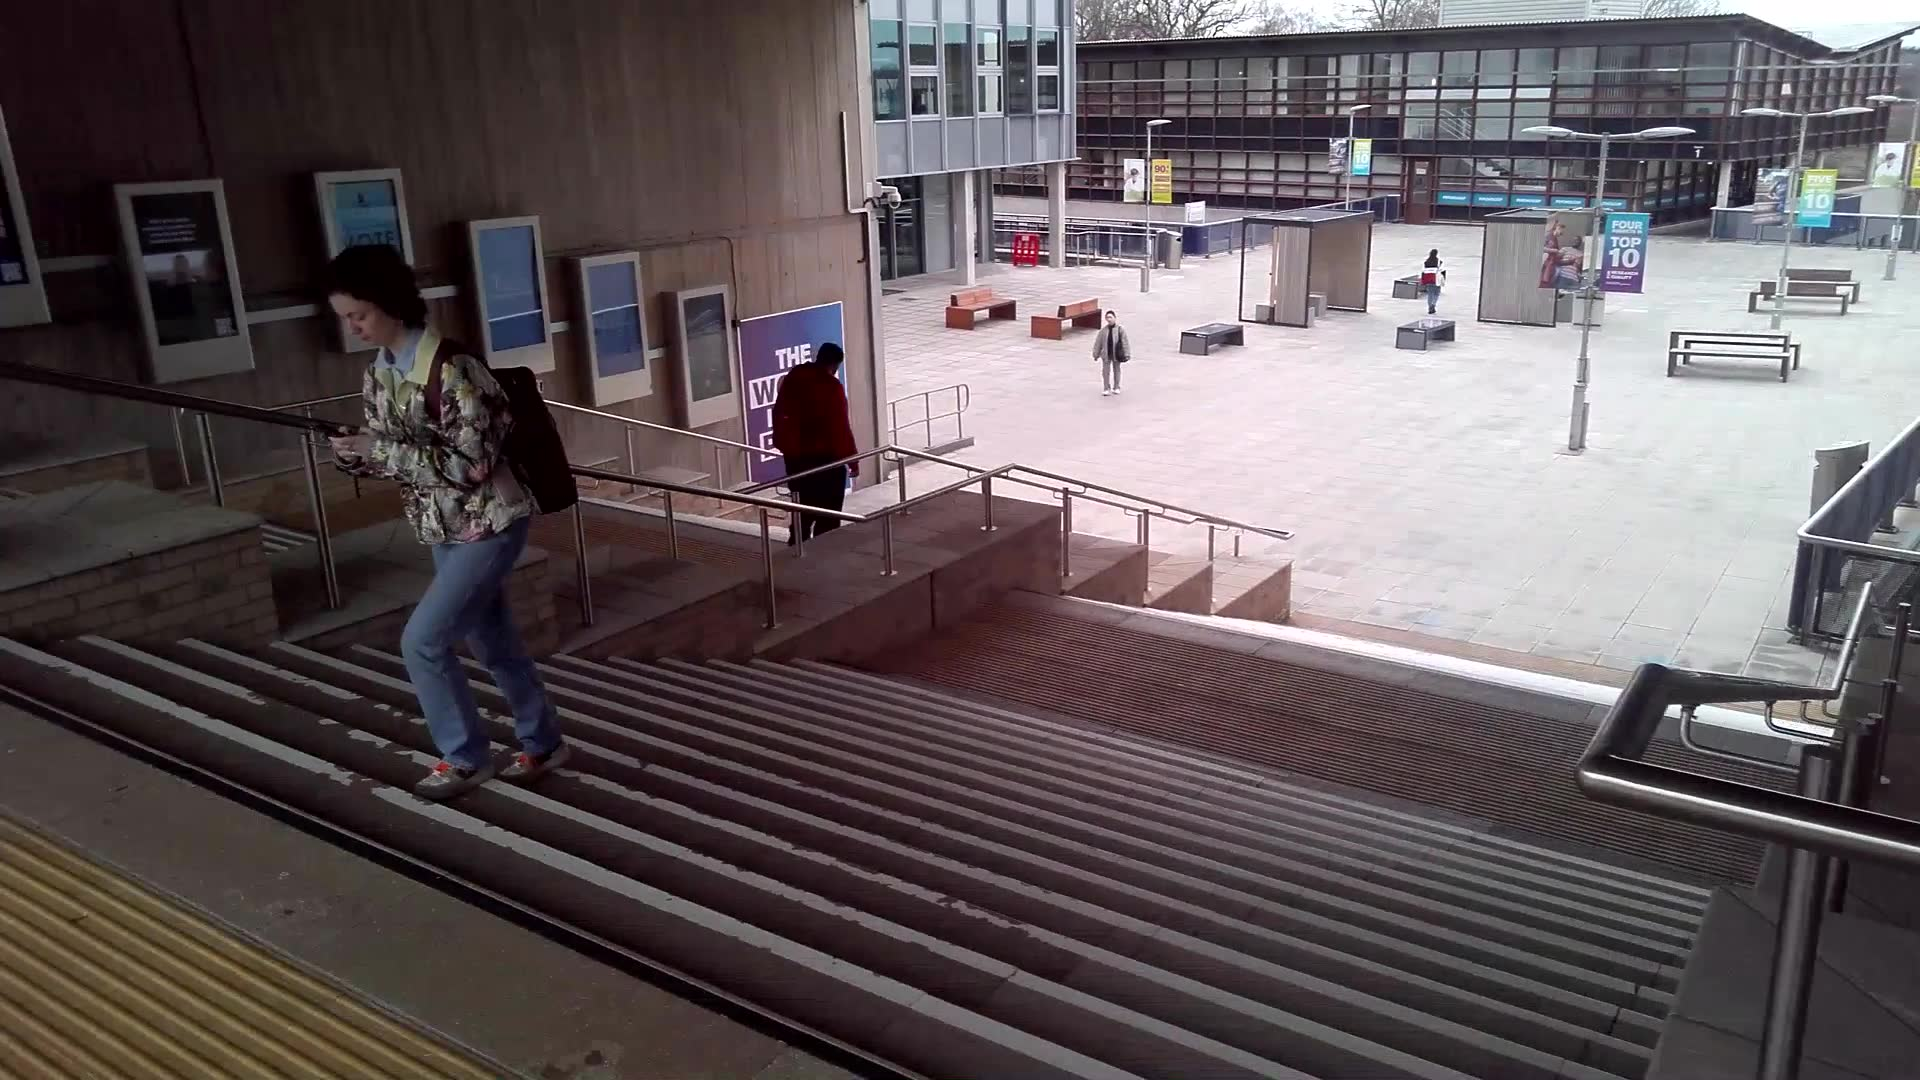Backpack: (480, 349, 581, 523), (769, 383, 829, 459)
Bench: (1664, 327, 1810, 390), (1749, 267, 1864, 317), (945, 285, 1018, 333), (1033, 295, 1098, 339), (1393, 317, 1457, 349), (1181, 323, 1250, 351)
Person: (326, 238, 556, 798), (789, 343, 856, 522), (1101, 309, 1128, 394), (1424, 246, 1452, 318)
